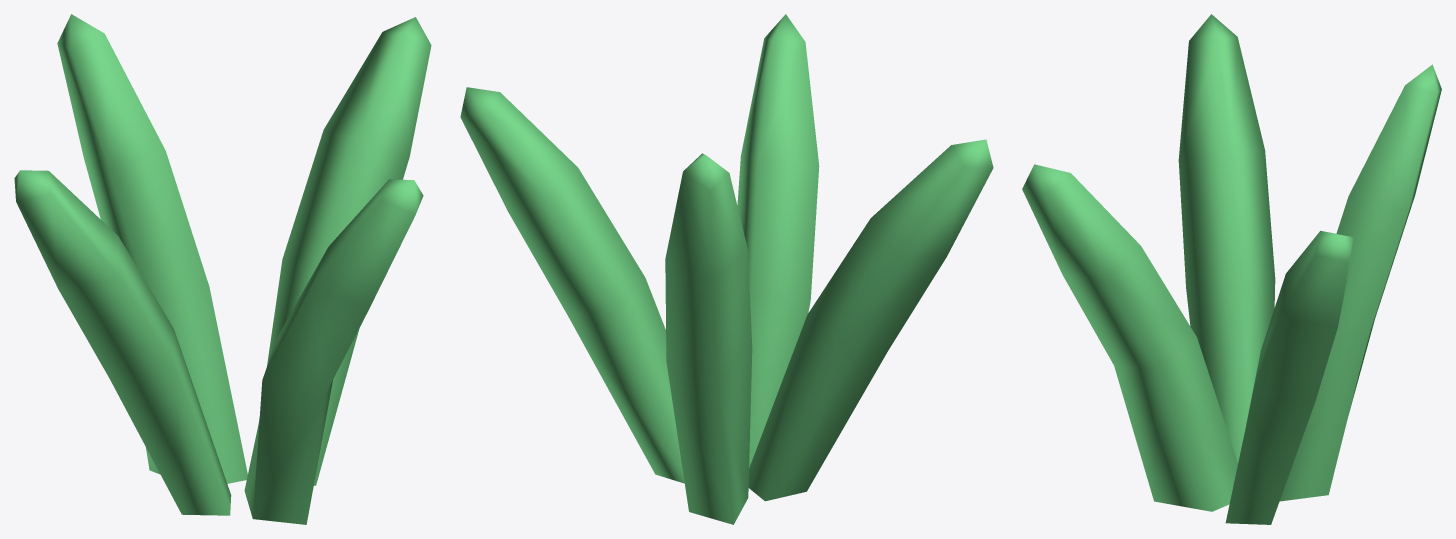
File: Grass_A_03_LOD2.gltf
The picture shows the model from 3 angles, left to right: view 1: azimuth 30°, elevation 25°; view 2: azimuth 150°, elevation 25°; view 3: azimuth 270°, elevation 25°; orthographic projection. The views are drawn at different scales.
Visible parts, largest first — view 1: Grass_A_03_LOD2_Cube.775; view 2: Grass_A_03_LOD2_Cube.775; view 3: Grass_A_03_LOD2_Cube.775.
Part boxes in pixels (<box>): Grass_A_03_LOD2_Cube.775: <box>14,14,431,524</box>; Grass_A_03_LOD2_Cube.775: <box>460,14,993,524</box>; Grass_A_03_LOD2_Cube.775: <box>1022,14,1441,524</box>.
Bounding box in the file's own units: 3.63 × 3.11 × 2.98.
Materials: 1 (1 with a texture image).
